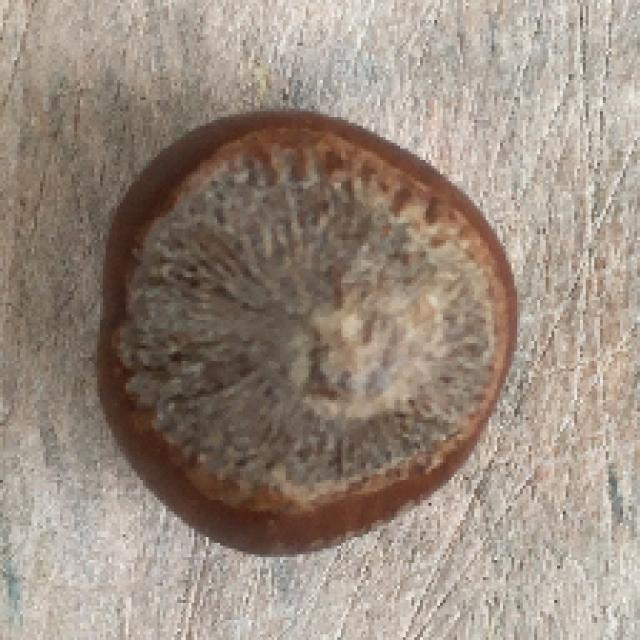damagedHazelnut: (98, 107, 526, 561)
